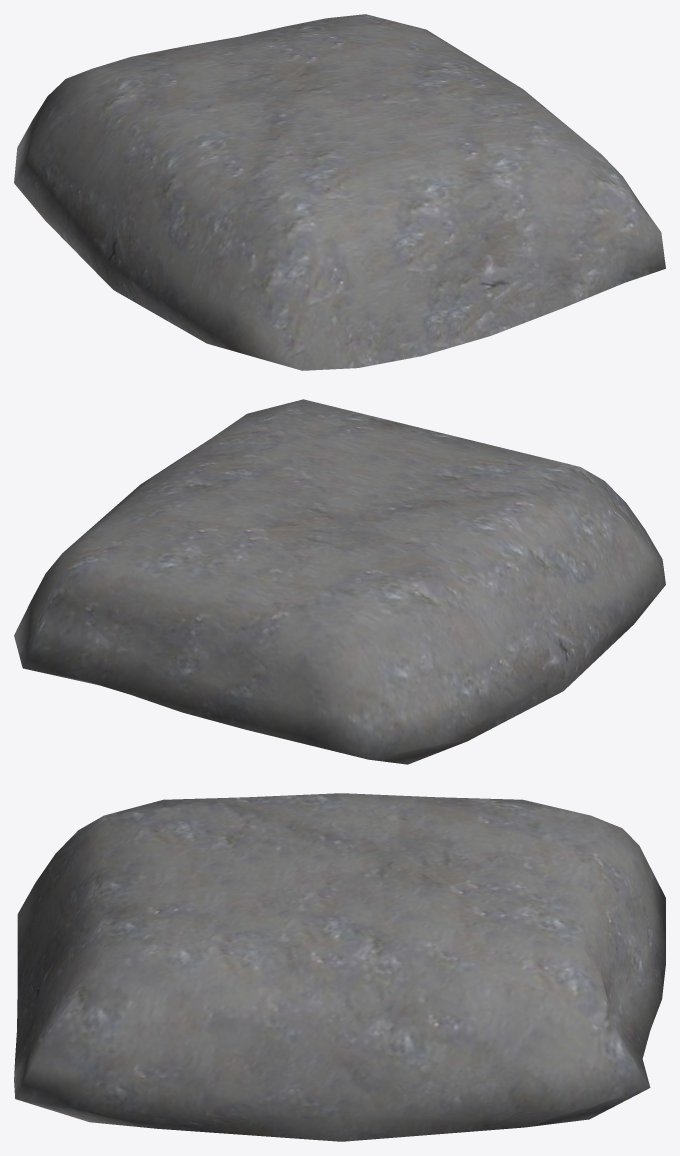
The model's file is SM_Sun_Toilet_stone.fbx.
3 renders of one model, top to bottom at view 1: azimuth 30°, elevation 25°; view 2: azimuth 150°, elevation 25°; view 3: azimuth 270°, elevation 25°, orthographic. The views are drawn at different scales.
Parts seen in each view (by area): view 1: SM_Sun_Toilet_stone; view 2: SM_Sun_Toilet_stone; view 3: SM_Sun_Toilet_stone.
Part boxes in pixels (x1=…): SM_Sun_Toilet_stone: x1=14, y1=14, x2=665, y2=370; SM_Sun_Toilet_stone: x1=14, y1=399, x2=665, y2=764; SM_Sun_Toilet_stone: x1=14, y1=793, x2=665, y2=1141.
Size of the model in its own units: 81.64 by 23.99 by 90.91.
